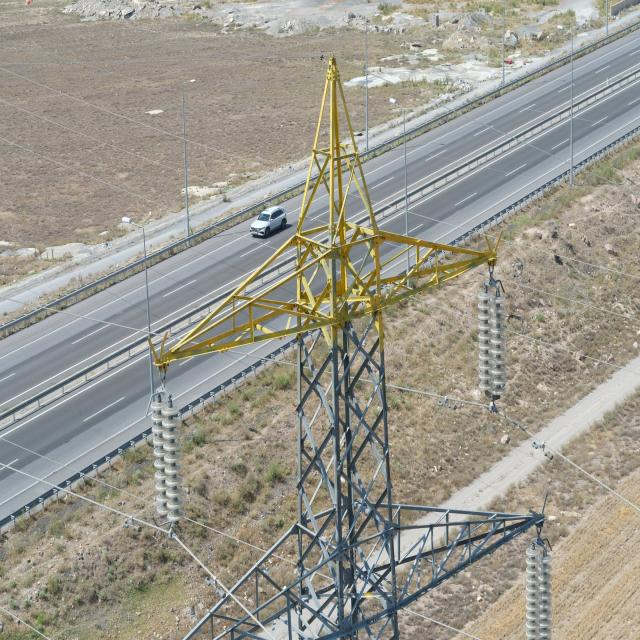sag_alt: (293, 57, 402, 640)
